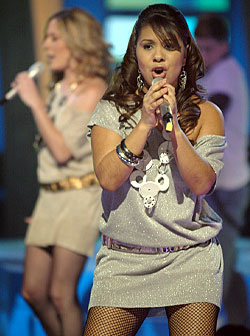person: (82, 3, 230, 336), (11, 7, 118, 336)
